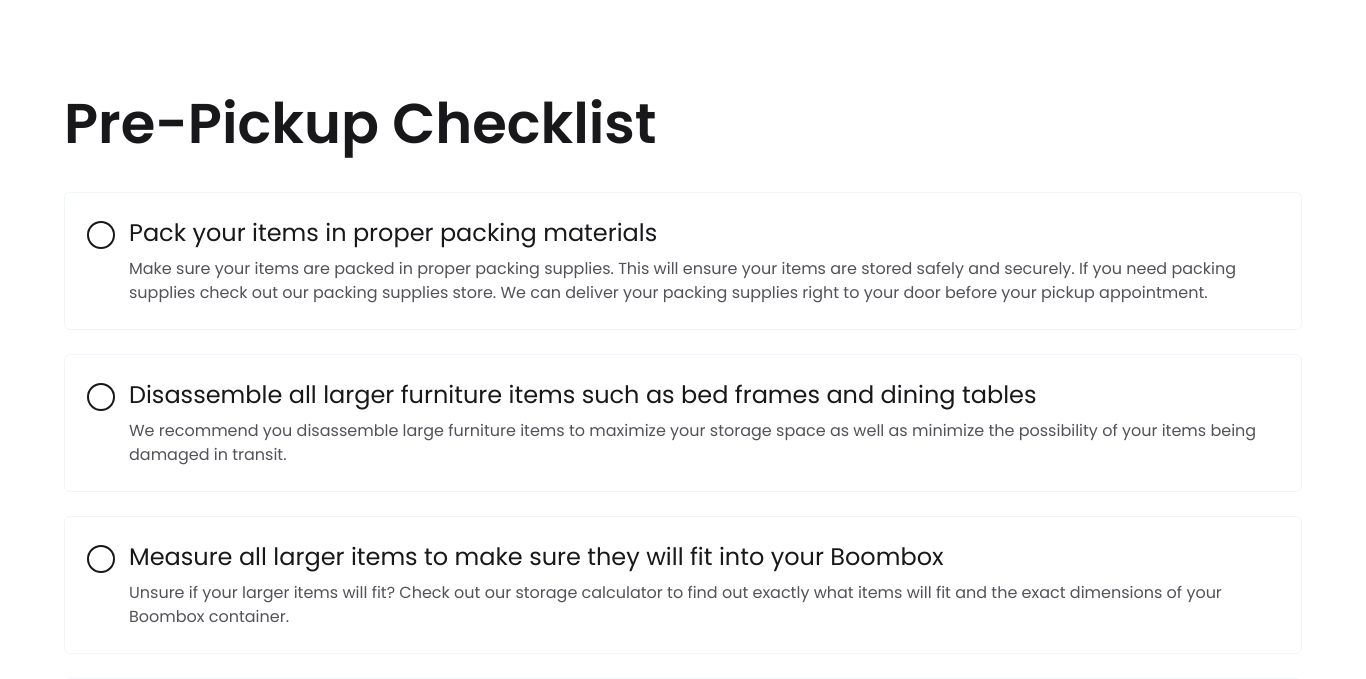
ChecklistSection › State Management › shows check icon when item is checked
The image size is (1366, 679).
Check item
Click the 1st button: (683, 261) [64,192,1302,330]
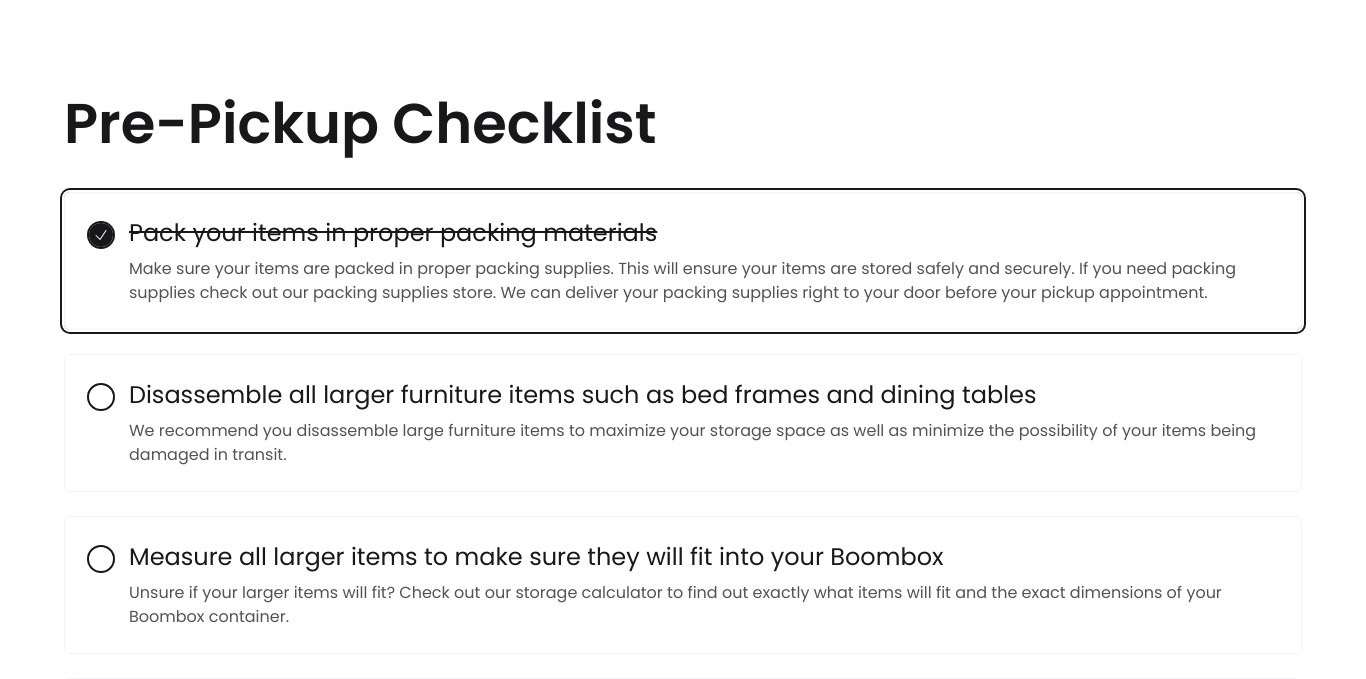
Now the icon is shown, box [93,227,109,243]
